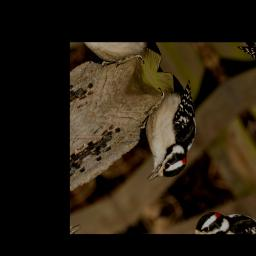Woodpecker: (109, 70, 228, 191)
